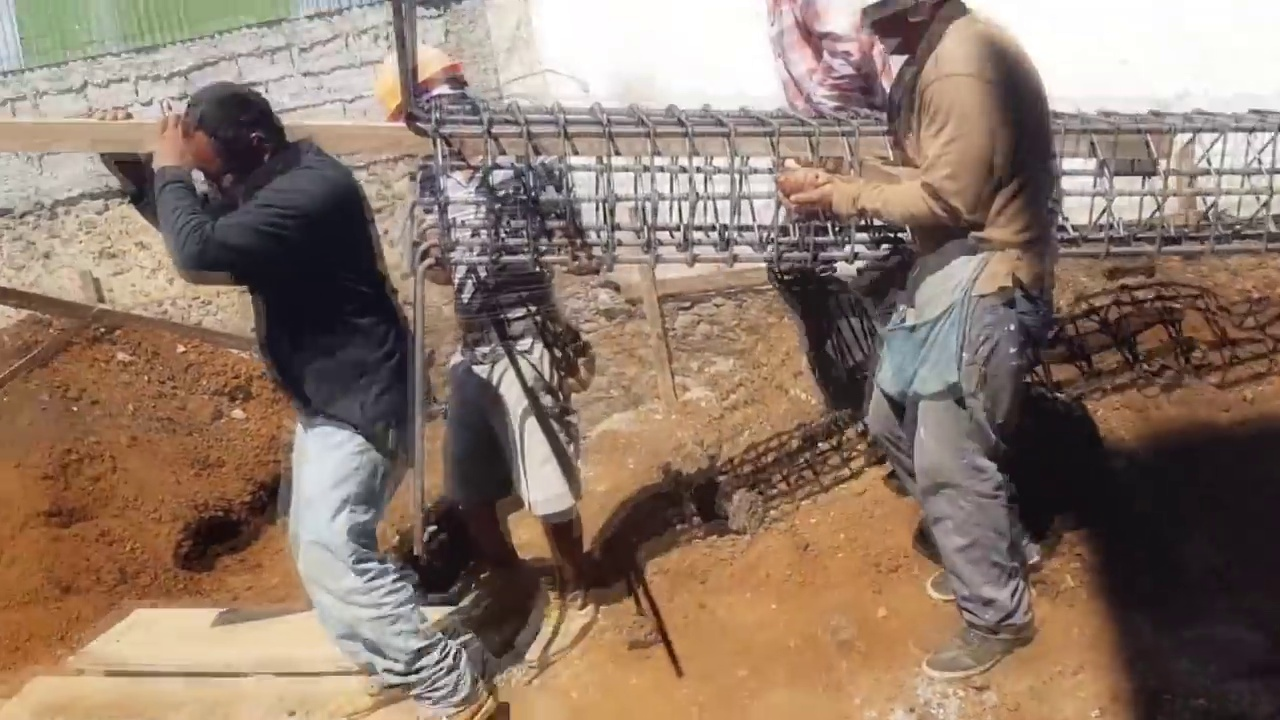helmet: (375, 43, 464, 122)
helmet-off: (169, 78, 284, 185), (868, 0, 963, 65)
person: (96, 65, 500, 716), (770, 0, 1075, 675), (379, 46, 592, 670), (768, 0, 908, 187), (374, 42, 495, 163)
